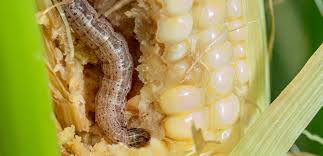Armyworm: (56, 1, 158, 156)
